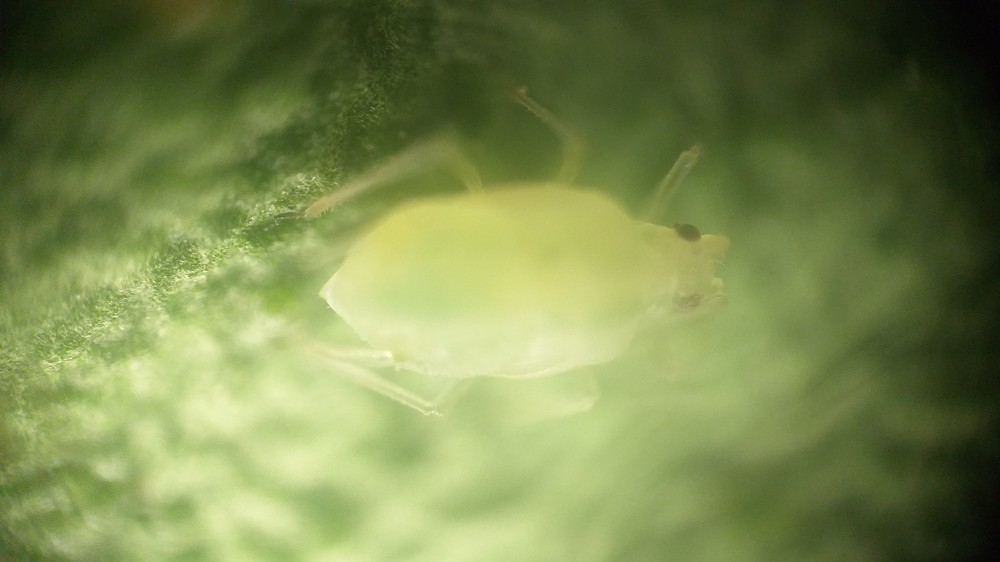Pulgon: (279, 73, 781, 482)
